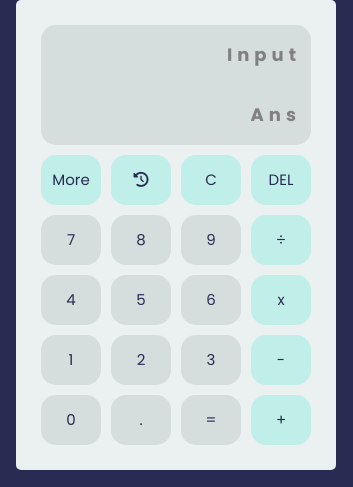
Test: Calculator › should prevent operator chaining in input
Click the button with test id "1": (71, 360) [41,335,101,385]
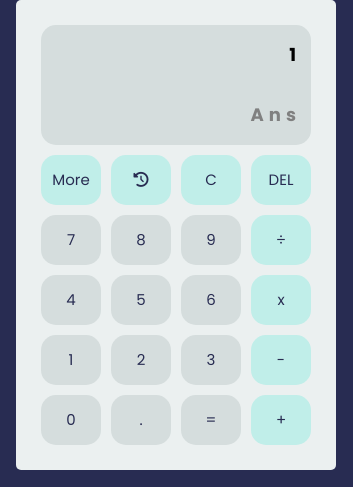
Click the button with test id "+": (281, 420) [251,395,311,445]
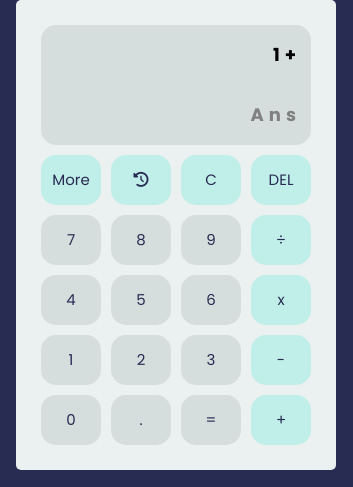
Click the button with test id "-": (281, 360) [251,335,311,385]
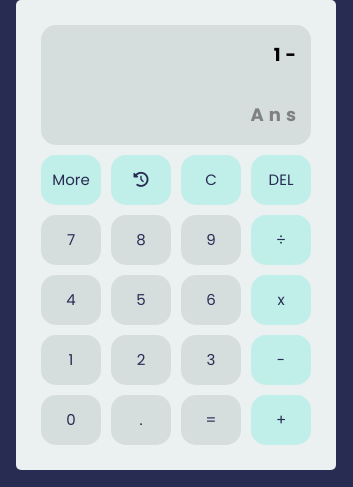
Click the button with test id "/": (281, 240) [251,215,311,265]
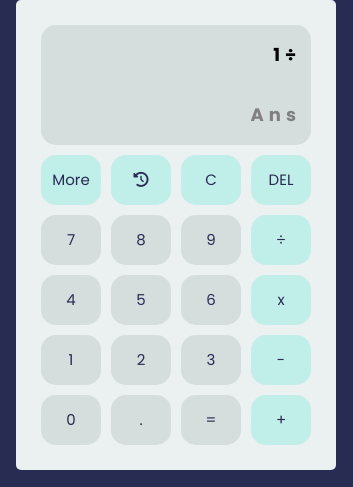
Click the button with test id "*": (281, 300) [251,275,311,325]
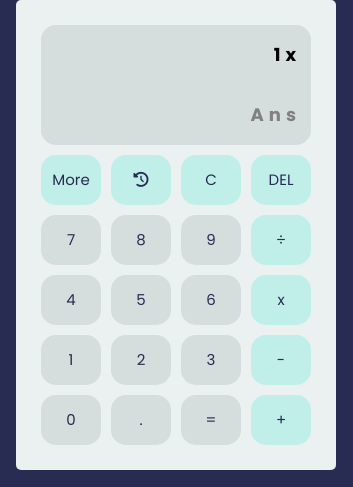
Expected: the heading with test id "input" reads "1x", [274,42,301,67]
